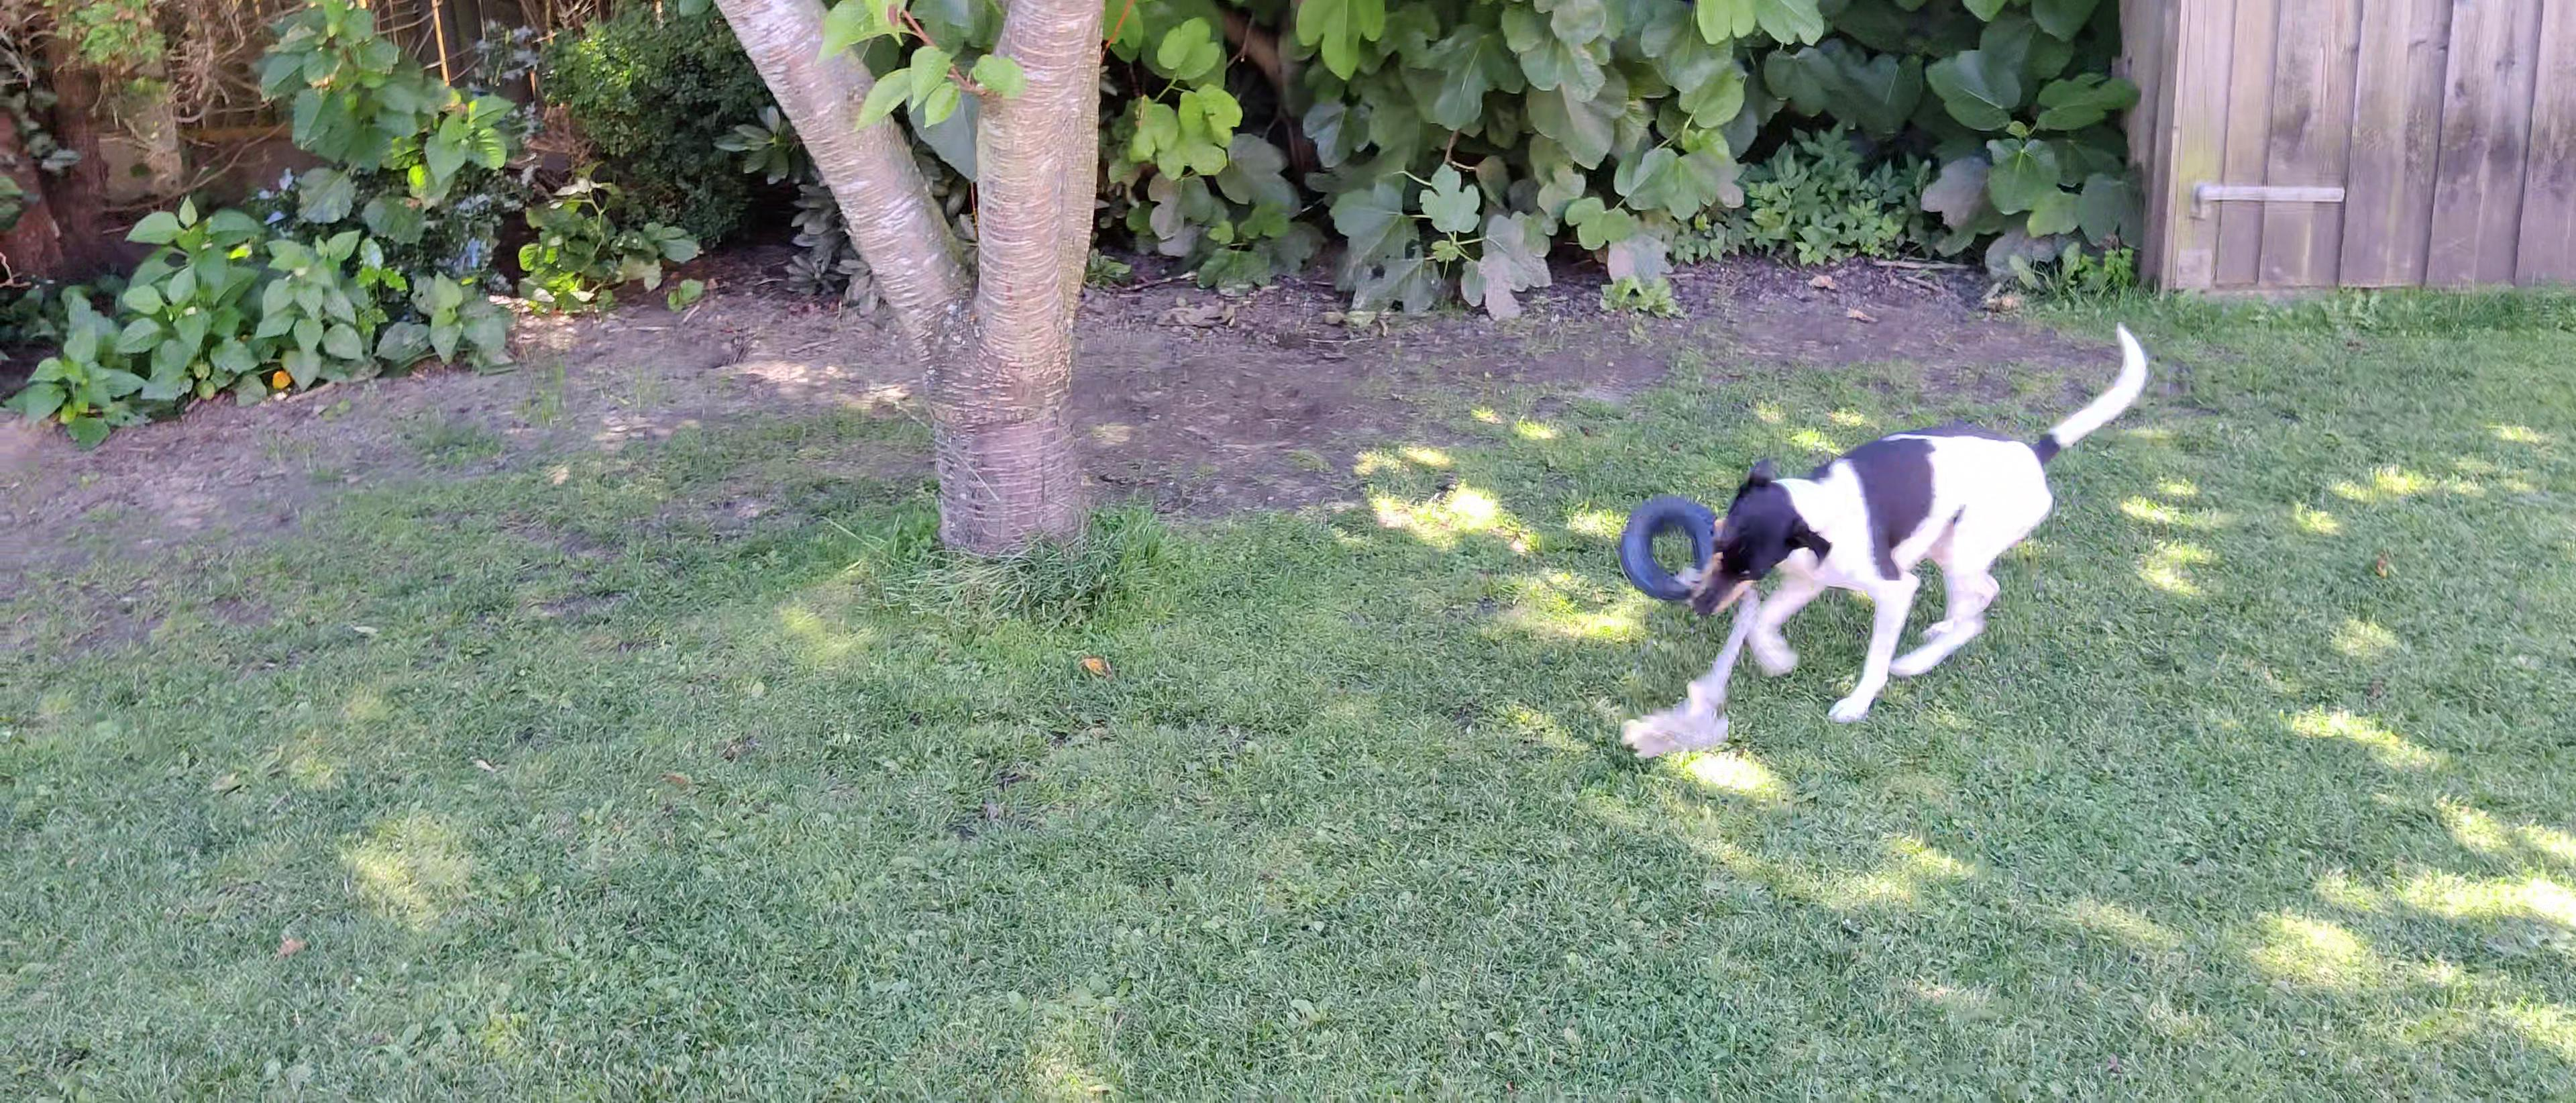Dog: (1672, 312, 2147, 740)
